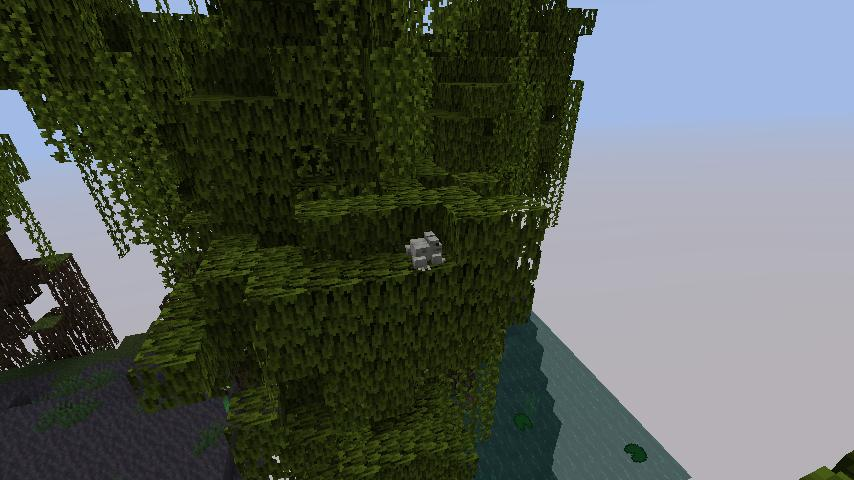frog: (402, 227, 448, 276)
